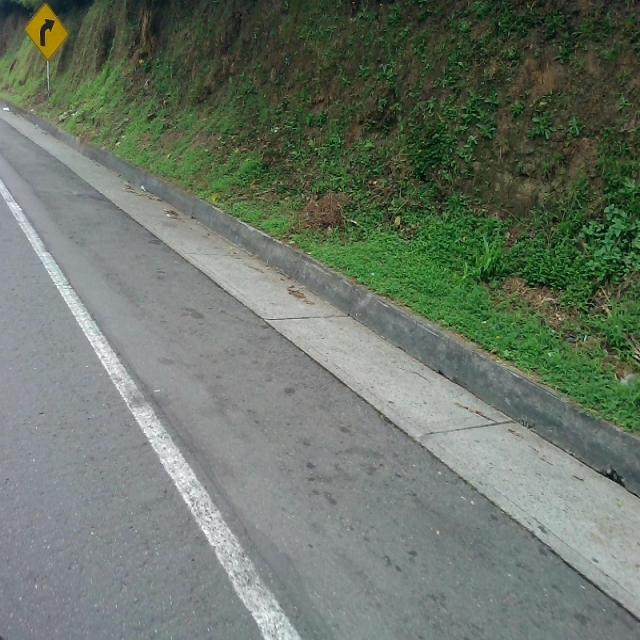DITCH: (1, 101, 639, 638), (4, 128, 638, 638)
